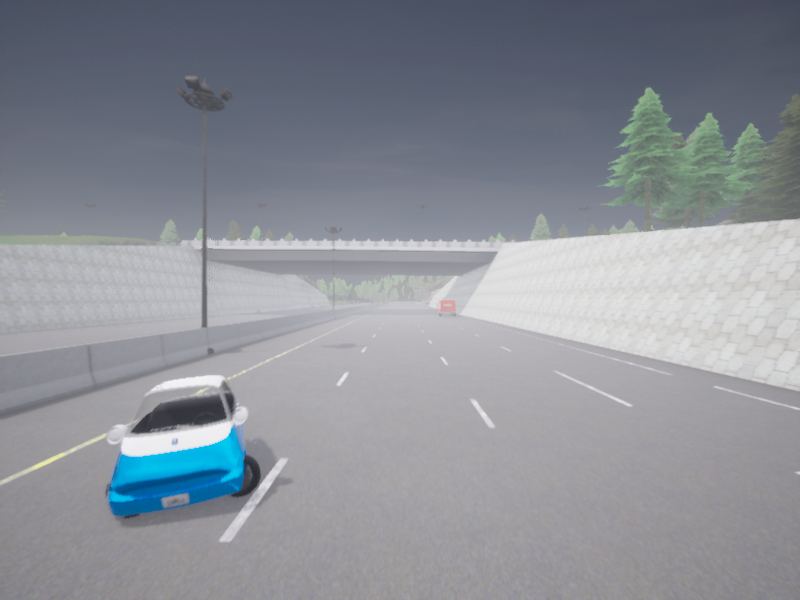vehicle: (105, 375, 259, 518), (436, 300, 455, 315)
